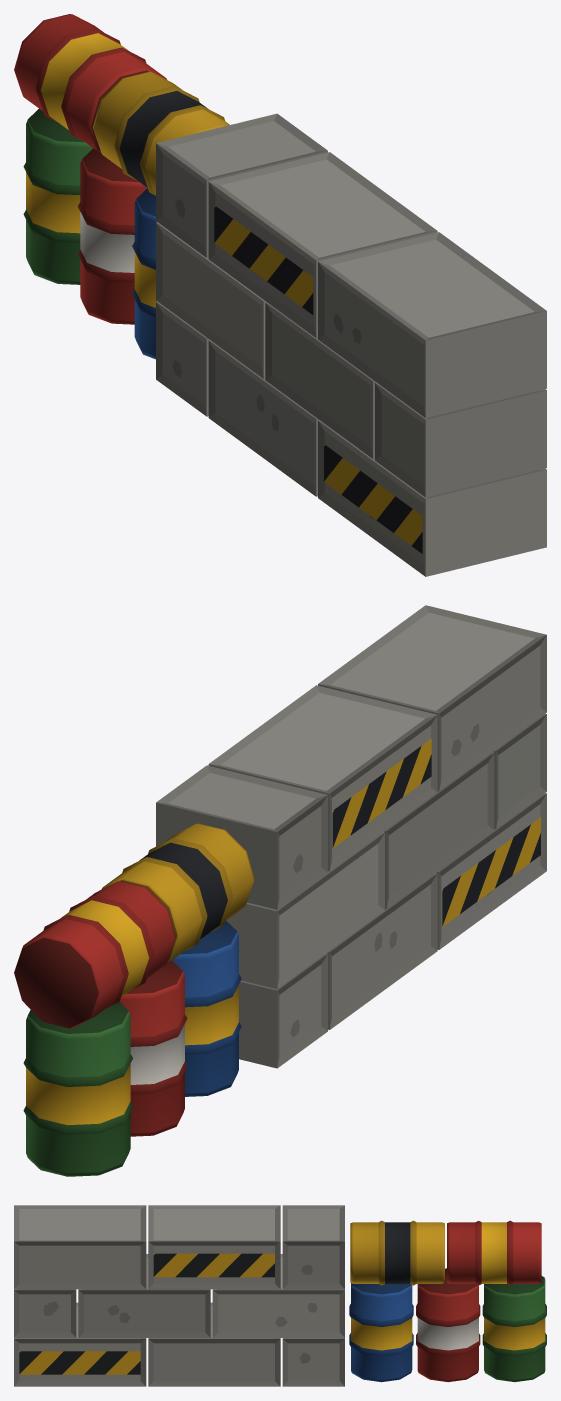
The model's file is break_wall.glb.
3 views of the same model, one above another, from view 1: azimuth 30°, elevation 25°; view 2: azimuth 150°, elevation 25°; view 3: azimuth 270°, elevation 25° (orthographic). The views are drawn at different scales.
Parts seen in each view (by area): view 1: Piece7, Piece8, Piece1, Piece4, Piece9, Piece14, Piece11, Piece12, Piece5, Piece6, Piece2, Piece13 (+2 smaller); view 2: Piece8, Piece7, Piece12, Piece14, Piece9, Piece6, Piece13, Piece11, Piece1, Piece5, Piece2, Piece10 (+2 smaller); view 3: Piece8, Piece7, Piece1, Piece2, Piece5, Piece6, Piece11, Piece12, Piece10, Piece13, Piece14, Piece9 (+2 smaller).
Part boxes in pixels (box(x1,y1,x2,y2)): Piece7: box(318, 232, 546, 417); Piece8: box(208, 152, 437, 337); Piece1: box(318, 420, 546, 576); Piece4: box(375, 382, 546, 497); Piece9: box(156, 113, 327, 257); Piece14: box(14, 14, 166, 152); Piece11: box(78, 148, 147, 324); Piece12: box(23, 108, 93, 284); Piece5: box(265, 302, 375, 458); Piece6: box(156, 222, 266, 378); Piece2: box(208, 340, 318, 496); Piece13: box(93, 71, 229, 195); Piece8: box(208, 685, 437, 871); Piece7: box(318, 605, 546, 791); Piece12: box(23, 1002, 132, 1176); Piece14: box(14, 881, 175, 1028); Piece9: box(156, 765, 327, 909); Piece6: box(226, 832, 384, 988); Piece13: box(102, 823, 254, 961); Piece11: box(119, 960, 187, 1136); Piece1: box(436, 793, 546, 949); Piece5: box(384, 752, 494, 908); Piece2: box(327, 873, 437, 1029); Piece10: box(172, 921, 241, 1096); Piece8: box(148, 1205, 280, 1289); Piece7: box(14, 1205, 146, 1289); Piece1: box(14, 1302, 146, 1386); Piece2: box(148, 1302, 280, 1386); Piece5: box(78, 1254, 210, 1337); Piece6: box(212, 1254, 344, 1337); Piece11: box(416, 1268, 480, 1382); Piece12: box(482, 1276, 546, 1382); Piece10: box(349, 1283, 413, 1382); Piece13: box(350, 1220, 444, 1285); Piece14: box(447, 1220, 541, 1285); Piece9: box(282, 1205, 344, 1289).
Bounding box in the file's own units: 0.8 × 1.5 × 4.96.
